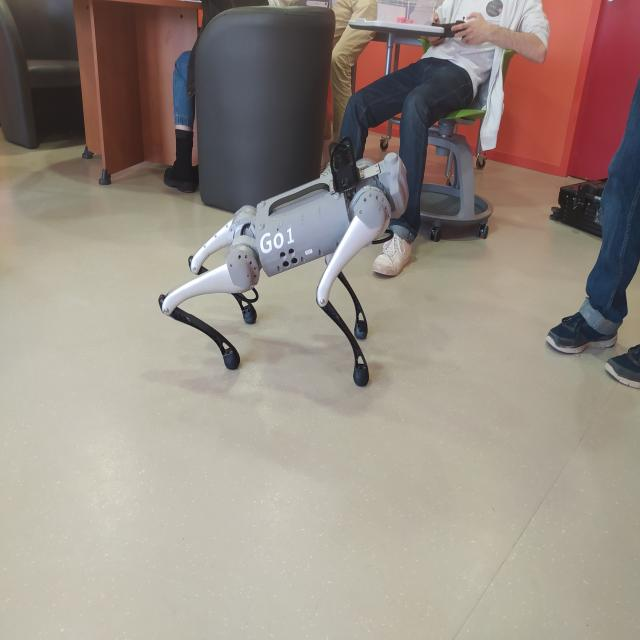unitree-go1-robot: (178, 158, 410, 391)
